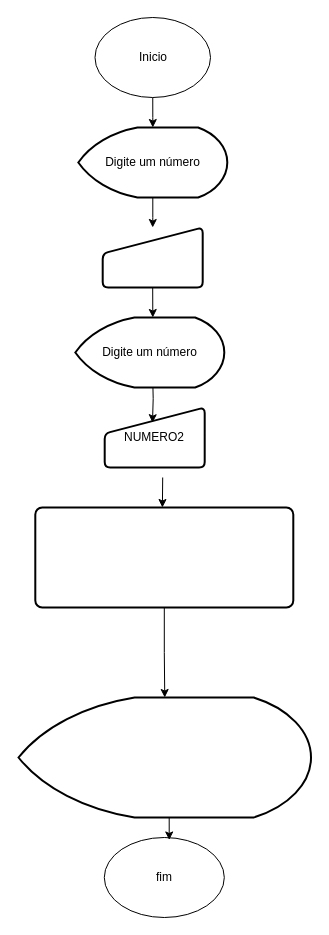
Some shapes in this 329 by 935 pixel diagram are drawn without their labels. Here are the shapes that lost their labels. From the top down, the centre of each, then its label:
point 152,257: NUMERO1
point 164,557: SUBITRACAO=NUMERO1-NUMERO2
point 164,757: A diferença entre " + NUMERO1 + " e " + NUMERO2 + " é " + SUBITRACAO
